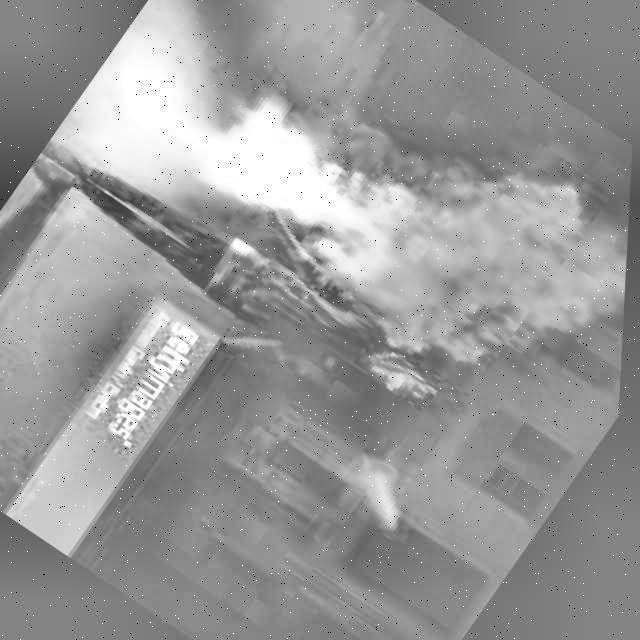Fire: (56, 0, 429, 308)
Smoke: (314, 95, 636, 446)
